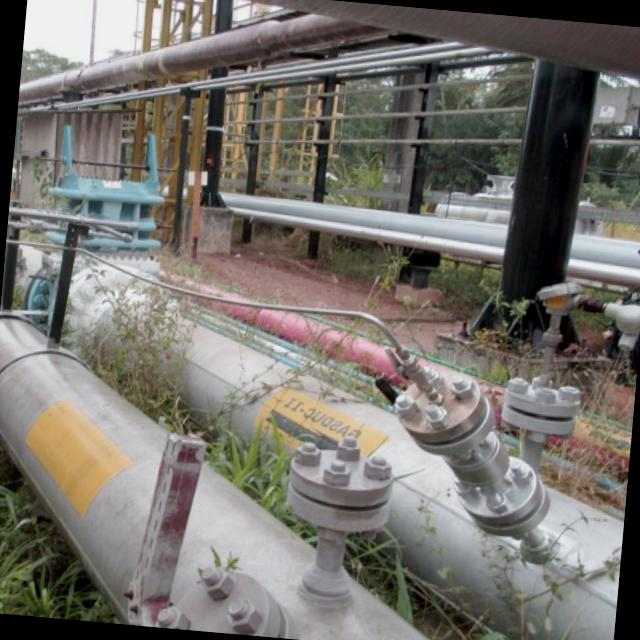gas: (8, 235, 622, 640), (0, 310, 427, 640), (154, 264, 626, 475), (226, 204, 640, 289), (208, 190, 640, 266), (18, 14, 369, 100)
